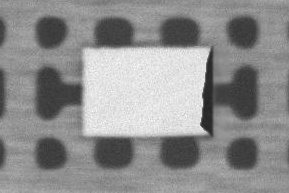DIE_BROKEN: (198, 50, 215, 135)
